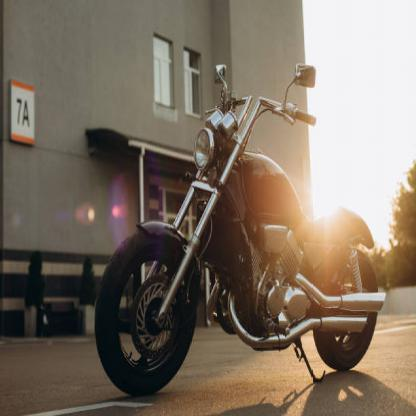Motorcycle: (84, 59, 388, 399)
